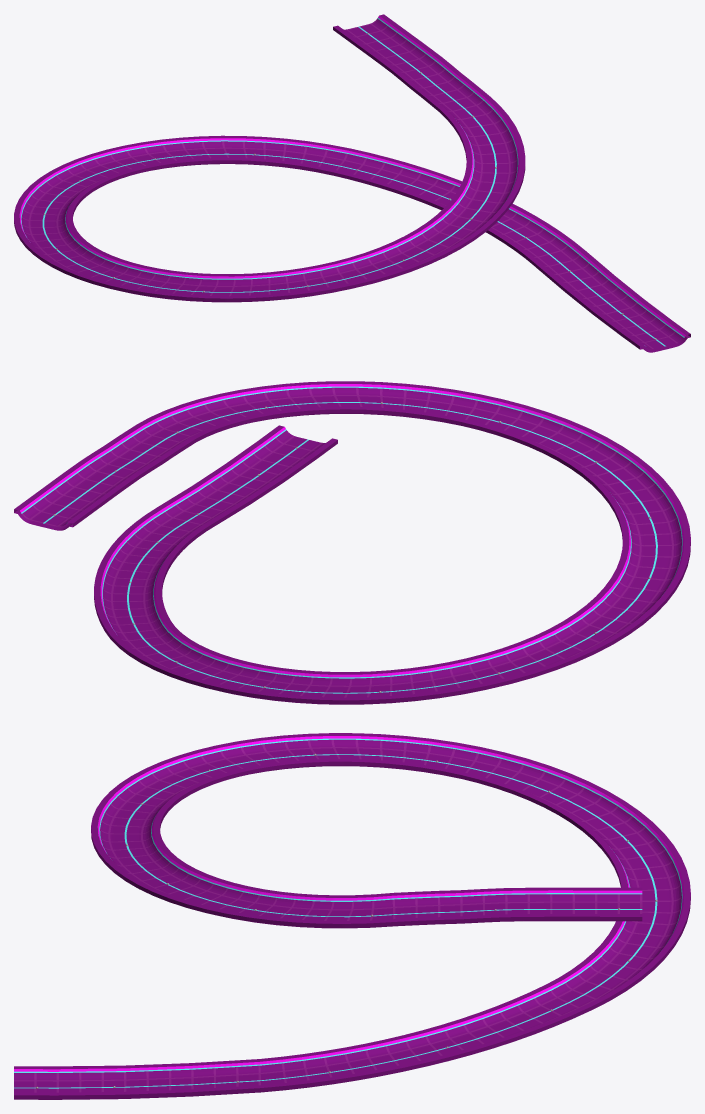
The model's file is block_180_S_R_T2.fbx.
3 renders of one model, top to bottom at view 1: azimuth 30°, elevation 25°; view 2: azimuth 150°, elevation 25°; view 3: azimuth 270°, elevation 25°, orthographic. The views are drawn at different scales.
Parts seen in each view (by area): view 1: block_180_S_R_T2; view 2: block_180_S_R_T2; view 3: block_180_S_R_T2.
Part boxes in pixels (box(x1,y1,x2,y2)): block_180_S_R_T2: box(14, 14, 690, 352); block_180_S_R_T2: box(14, 381, 690, 704); block_180_S_R_T2: box(14, 733, 690, 1099).
Size of the model in its own units: 10689 by 3023 by 11084.
2 materials, 1 textured.
